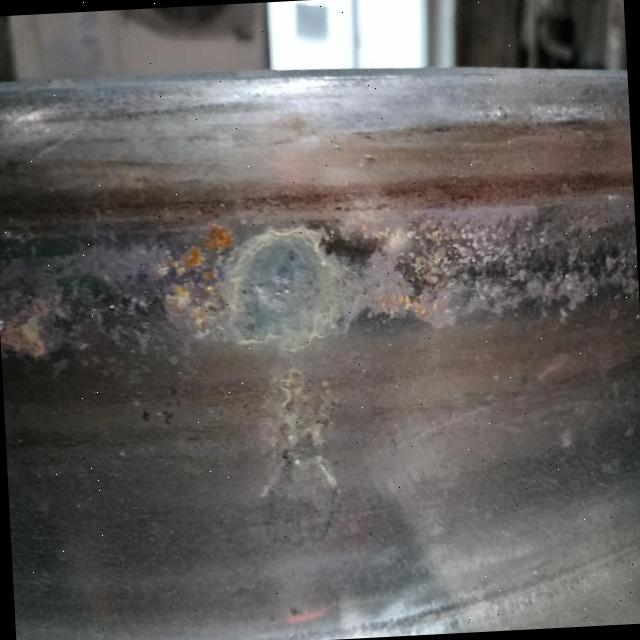Rollerpile: (1, 206, 640, 368)
